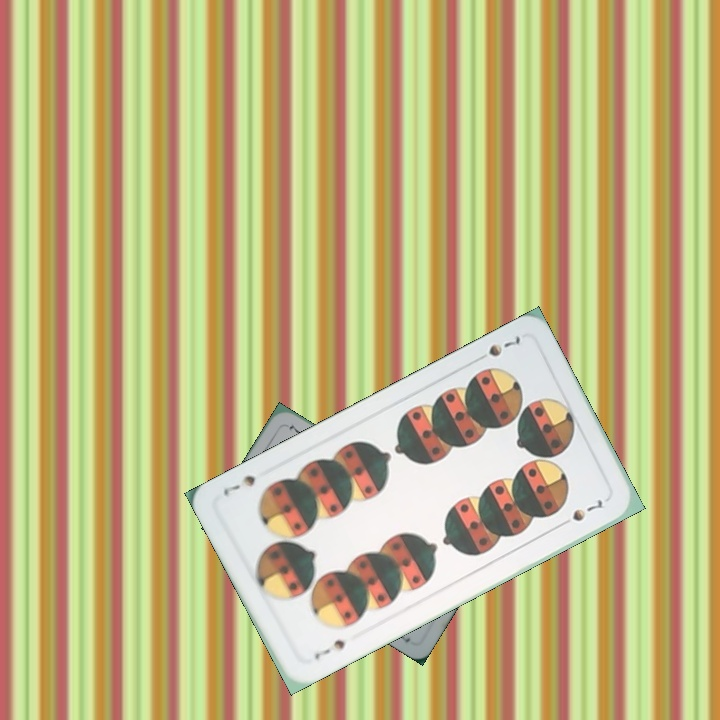S7: (470, 332, 523, 365), (310, 635, 348, 663)
